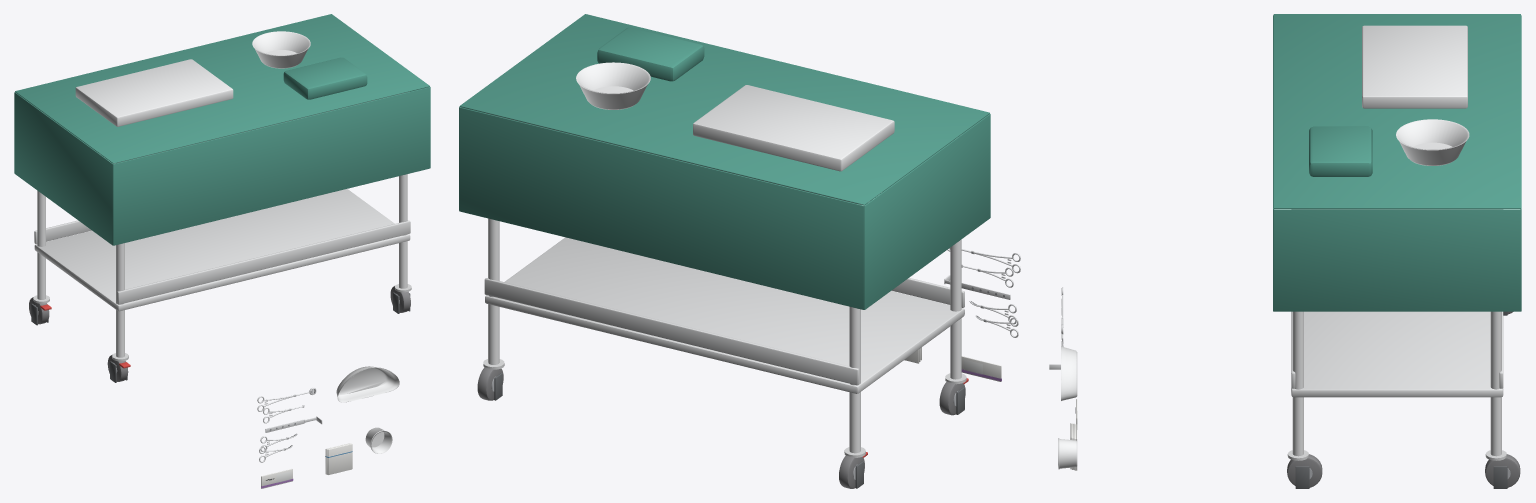
Rendered from InstrumentTrolley.fbx.
The picture shows the model from 3 angles, left to right: view 1: azimuth 30°, elevation 25°; view 2: azimuth 150°, elevation 25°; view 3: azimuth 270°, elevation 25°; orthographic projection. The views are drawn at different scales.
Visible parts, largest first — view 1: InstrumentTrolley_Mesh, Instr_KidneyDish_Mesh.001, Instr_GauzeSwabs_Mesh.001, Instr_Gallipot_Mesh.001; view 2: InstrumentTrolley_Mesh, Instr_SuturePack_Mesh.001; view 3: InstrumentTrolley_Mesh, Instr_KidneyDish_Mesh.001, Instr_Gallipot_Mesh.001.
Part boxes in pixels (left/top/right/bottom): InstrumentTrolley_Mesh: left=14, top=14, right=430, bottom=382; Instr_KidneyDish_Mesh.001: left=336, top=366, right=399, bottom=402; Instr_GauzeSwabs_Mesh.001: left=325, top=443, right=352, bottom=474; Instr_Gallipot_Mesh.001: left=365, top=427, right=392, bottom=453; InstrumentTrolley_Mesh: left=459, top=14, right=990, bottom=488; Instr_SuturePack_Mesh.001: left=961, top=356, right=1001, bottom=381; InstrumentTrolley_Mesh: left=1273, top=14, right=1521, bottom=488; Instr_KidneyDish_Mesh.001: left=1061, top=346, right=1077, bottom=400; Instr_Gallipot_Mesh.001: left=1058, top=438, right=1077, bottom=469.
Bounding box in the file's own units: 1.3 × 1.19 × 1.34.
